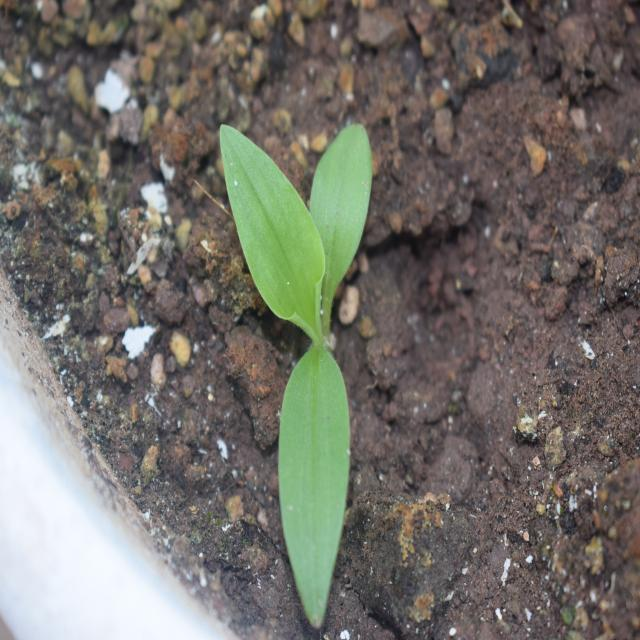Common Dayflower: (202, 116, 367, 634)
